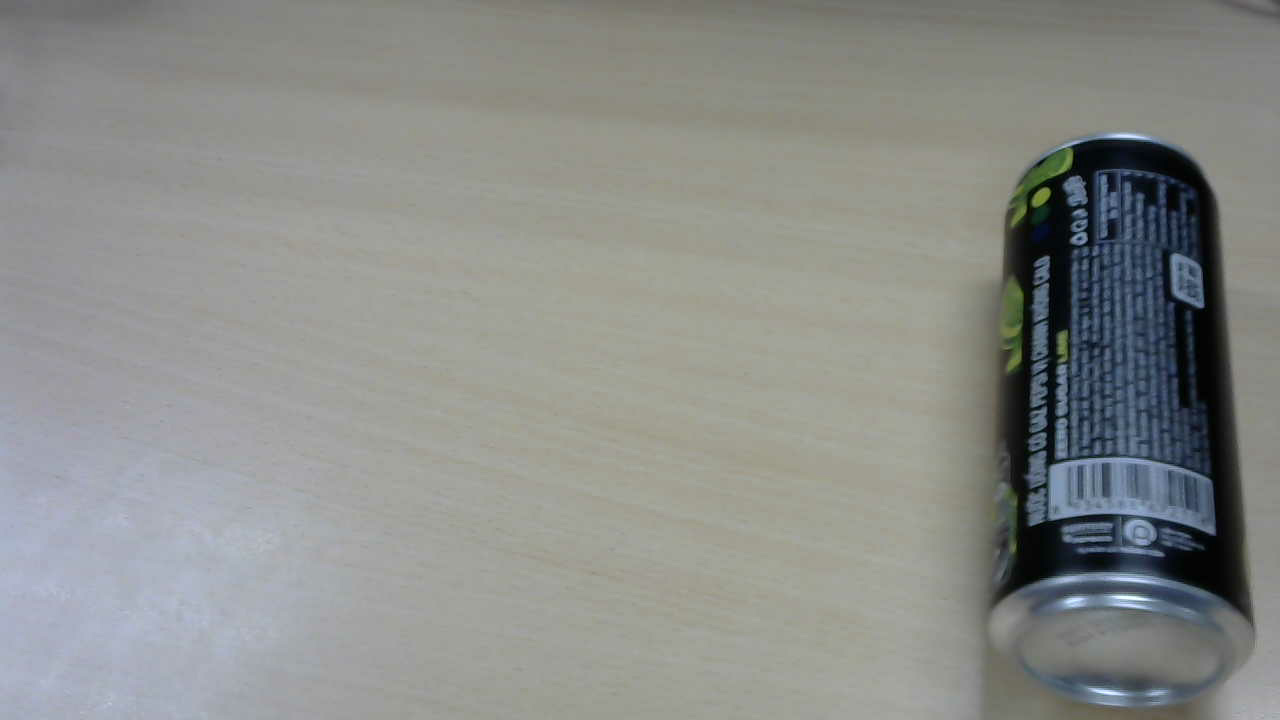Pepsi: (995, 133, 1264, 696)
